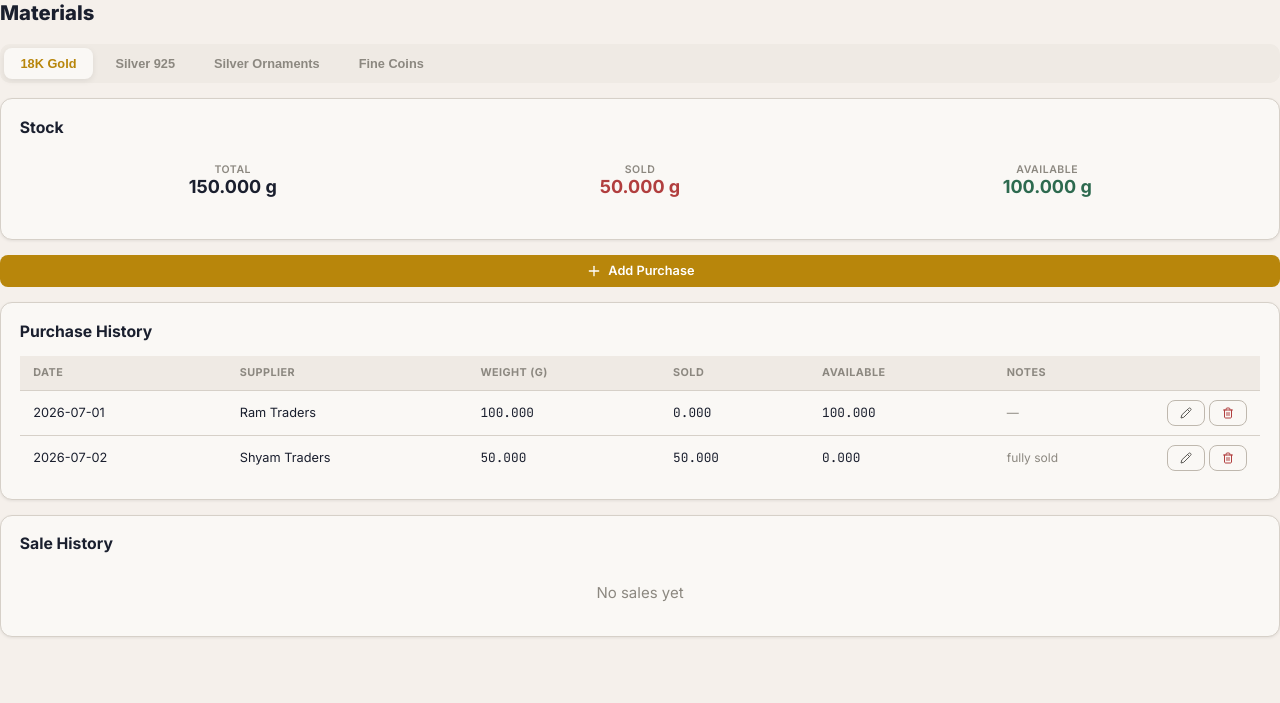
MaterialPage CRUD › blocks reducing a sold lot below its sold weight
expect the text "Ram Traders" is shown: met, box [226, 390, 467, 435]
Edit Shyam Traders (sold 50/50) and try to reduce below 50g
Step 1. Click the button named "Edit" in the row of "2026-07-02" → [1186, 458], box [1167, 445, 1205, 471]
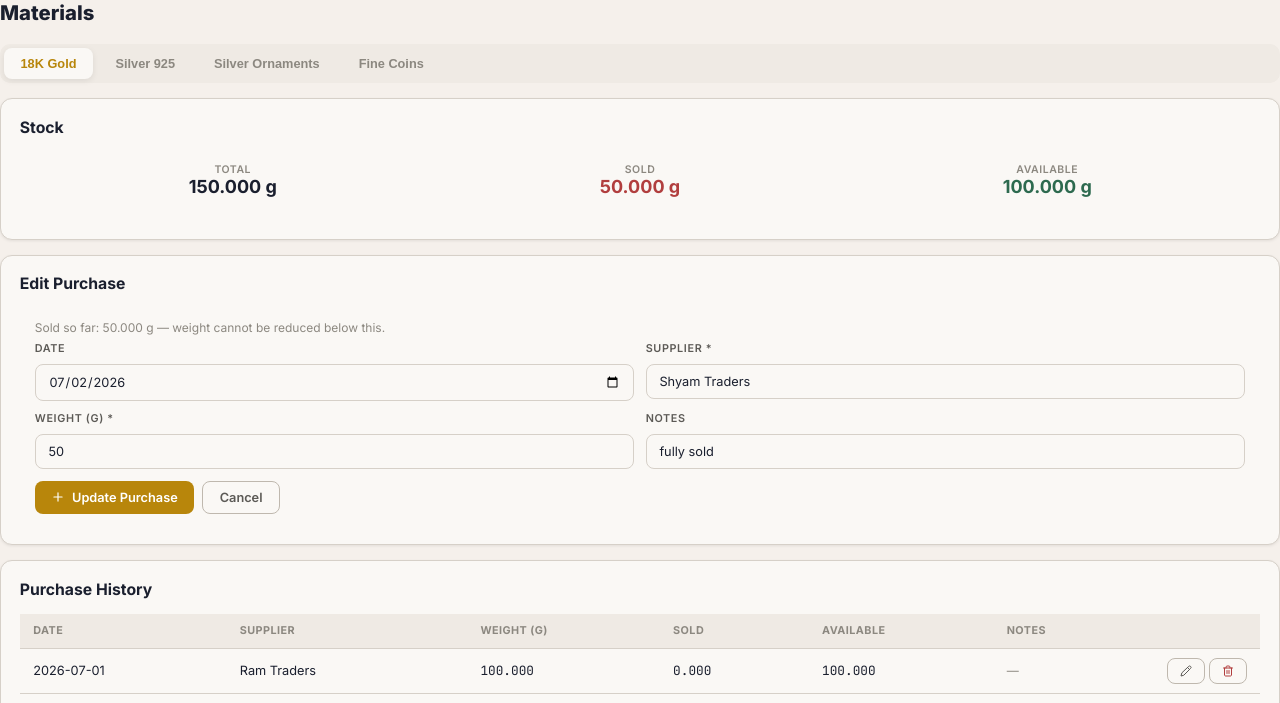
Step 2. Replace the text in the number field with placeholder "0.000" with "40" → [335, 452], box [35, 434, 634, 469]
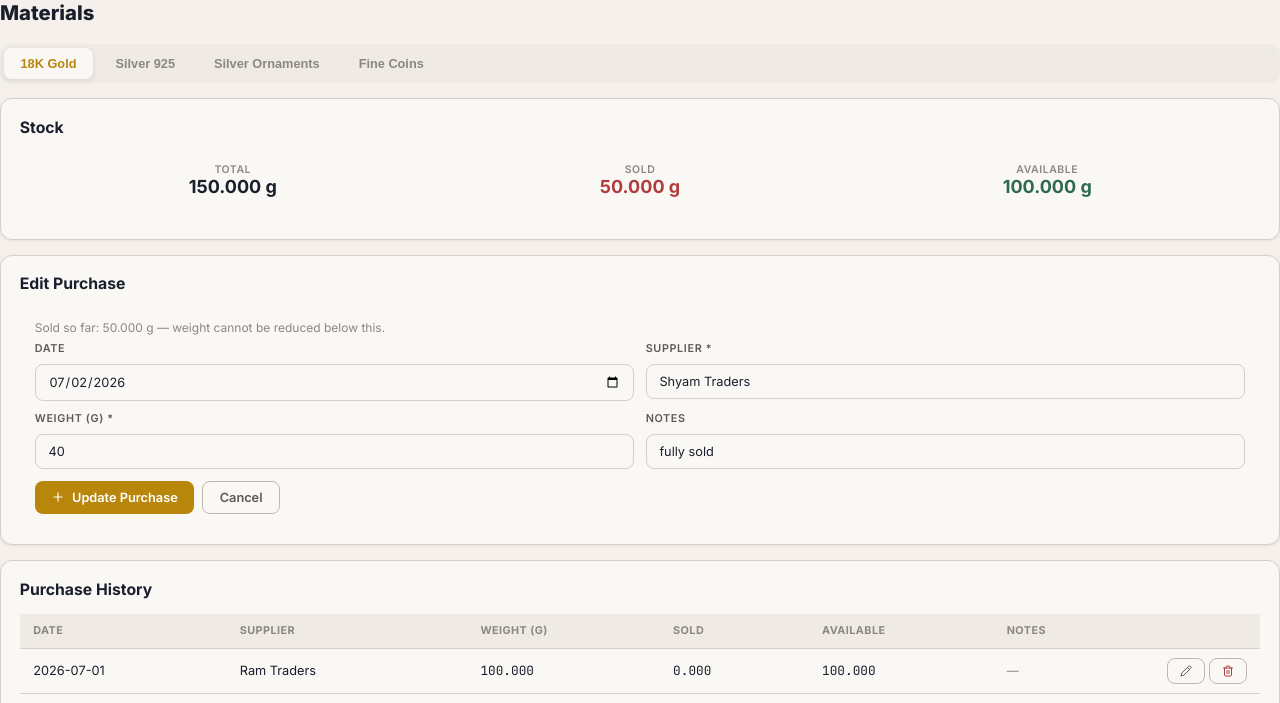
Step 3. Click the button "Update Purchase" → [114, 497], box [35, 480, 194, 514]
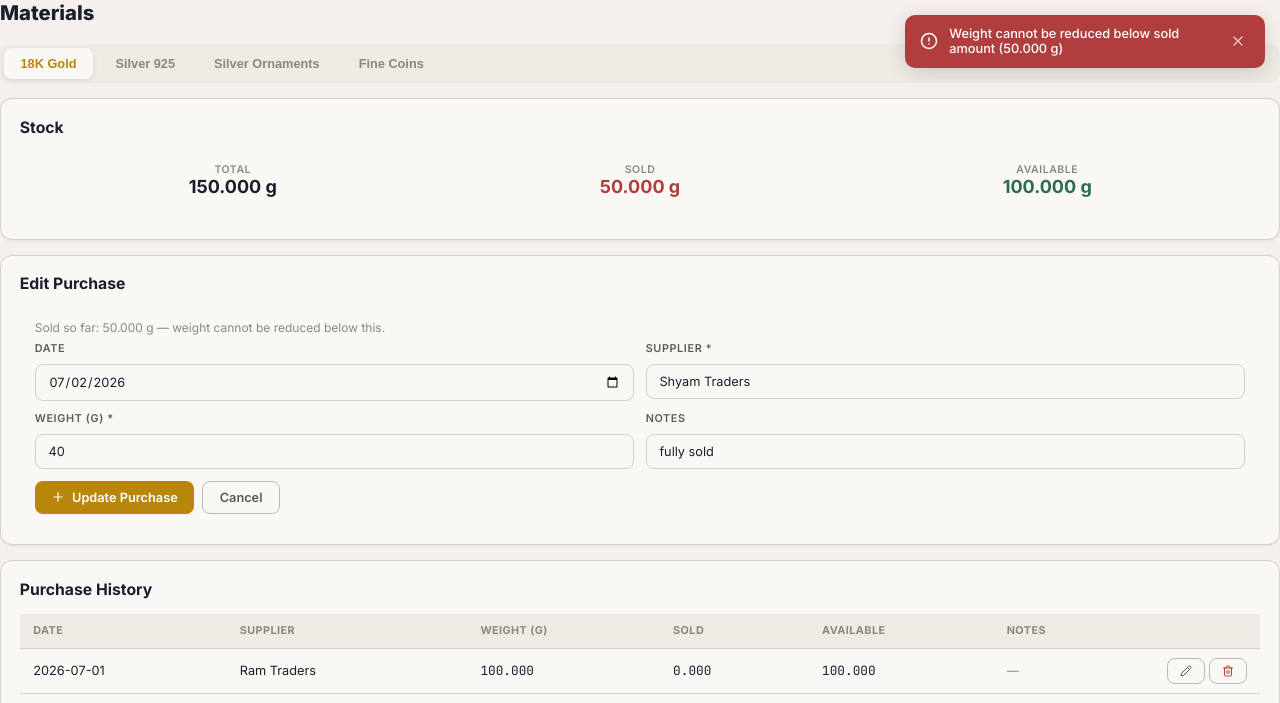
expect the text "Weight cannot be reduced below sold amount (50.000 g)" is shown: met, box [949, 26, 1215, 56]
